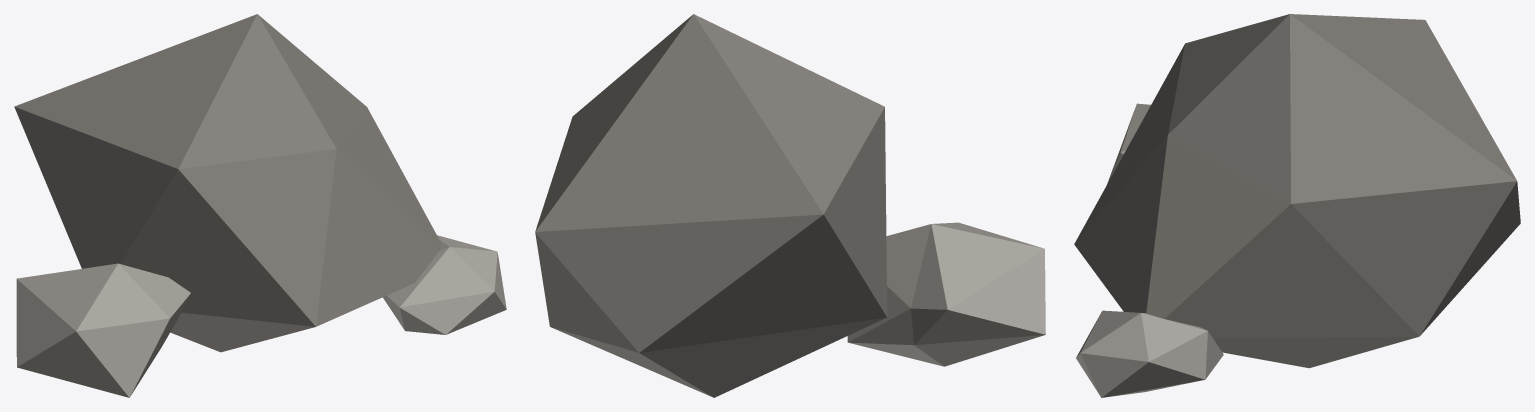
Rendered from debris_rock_b.glb.
The picture shows the model from 3 angles, left to right: view 1: azimuth 30°, elevation 25°; view 2: azimuth 150°, elevation 25°; view 3: azimuth 270°, elevation 25°; orthographic projection. The views are drawn at different scales.
Visible parts, largest first — view 1: debris_rock_b_mesh; view 2: debris_rock_b_mesh; view 3: debris_rock_b_mesh.
Boxes of the visible parts, <box> form: debris_rock_b_mesh: <box>14,14,506,397</box>; debris_rock_b_mesh: <box>535,14,1045,397</box>; debris_rock_b_mesh: <box>1074,14,1520,397</box>.
Bounding box in the file's own units: 0.7976 × 0.5639 × 0.6187.
1 material, 1 textured.
